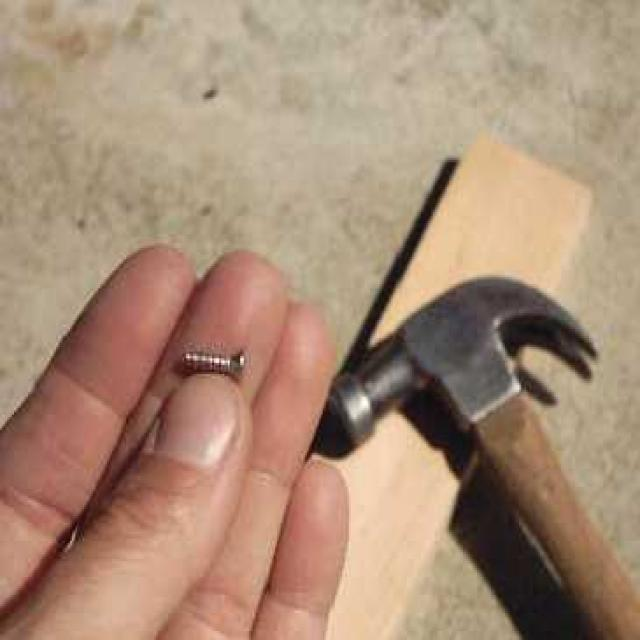hammer: (311, 267, 640, 636)
